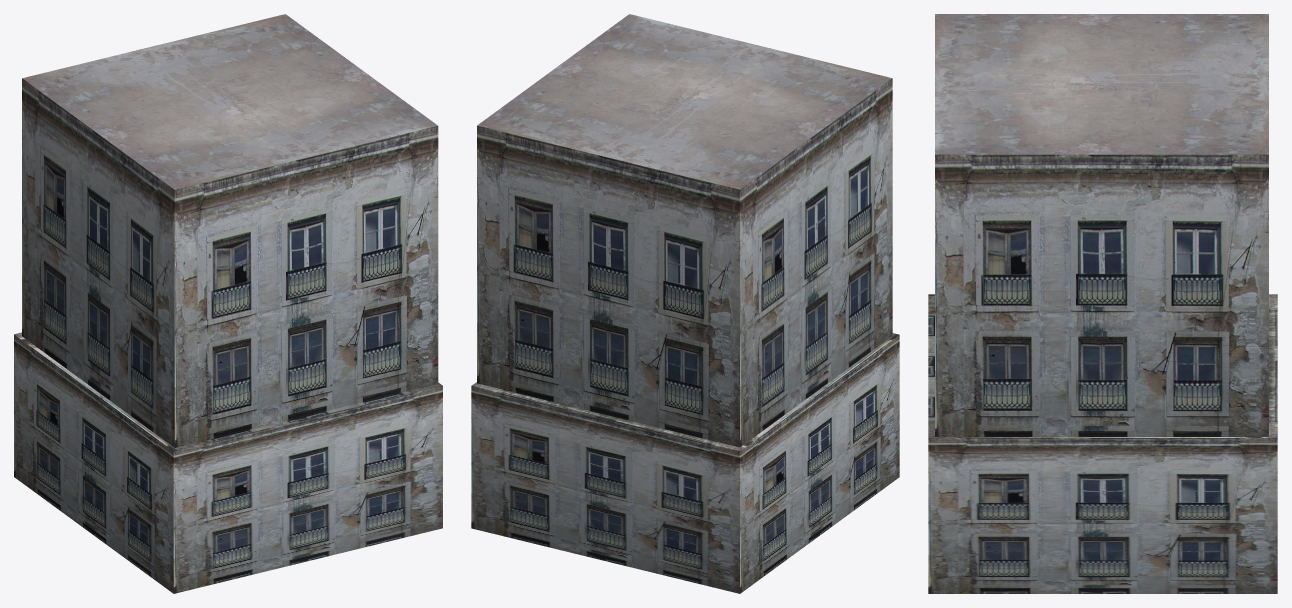
Rendered from BagBuilding22_0.fbx.
3 views of the same model, side by side, from view 1: azimuth 30°, elevation 25°; view 2: azimuth 150°, elevation 25°; view 3: azimuth 270°, elevation 25° (orthographic). The views are drawn at different scales.
Parts seen in each view (by area): view 1: box0, boxb0, roof0; view 2: box0, boxb0, roof0; view 3: box0, boxb0, roof0.
Part boxes in pixels (<box>): box0: <box>22,78,438,447</box>; boxb0: <box>14,332,442,593</box>; roof0: <box>22,14,437,189</box>; box0: <box>477,78,892,447</box>; boxb0: <box>471,333,899,593</box>; roof0: <box>477,14,892,189</box>; box0: <box>935,154,1268,436</box>; boxb0: <box>928,294,1277,593</box>; roof0: <box>935,14,1268,154</box>.
Size of the model in its own units: 16.65 by 23.69 by 17.12.
